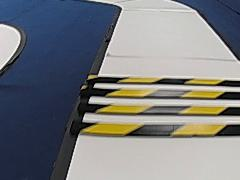bump: (75, 68, 240, 140)
